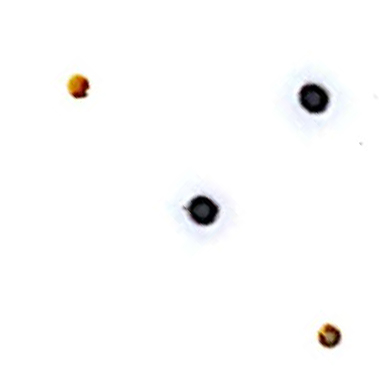cancer: (271, 59, 352, 140), (167, 173, 247, 243)
normal: (298, 303, 357, 364), (54, 64, 117, 115)
